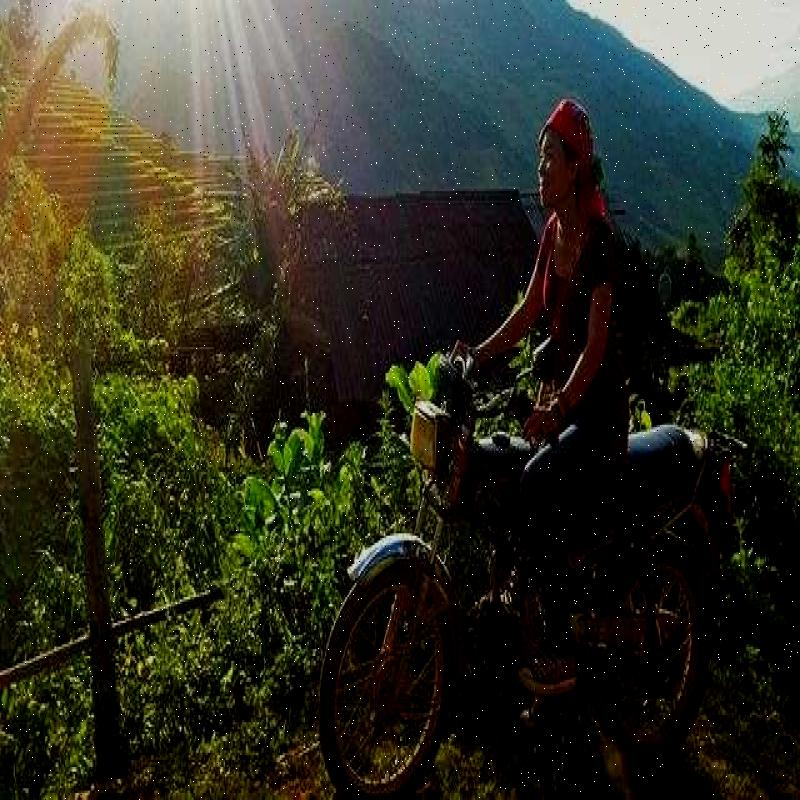bike: (312, 329, 751, 794)
